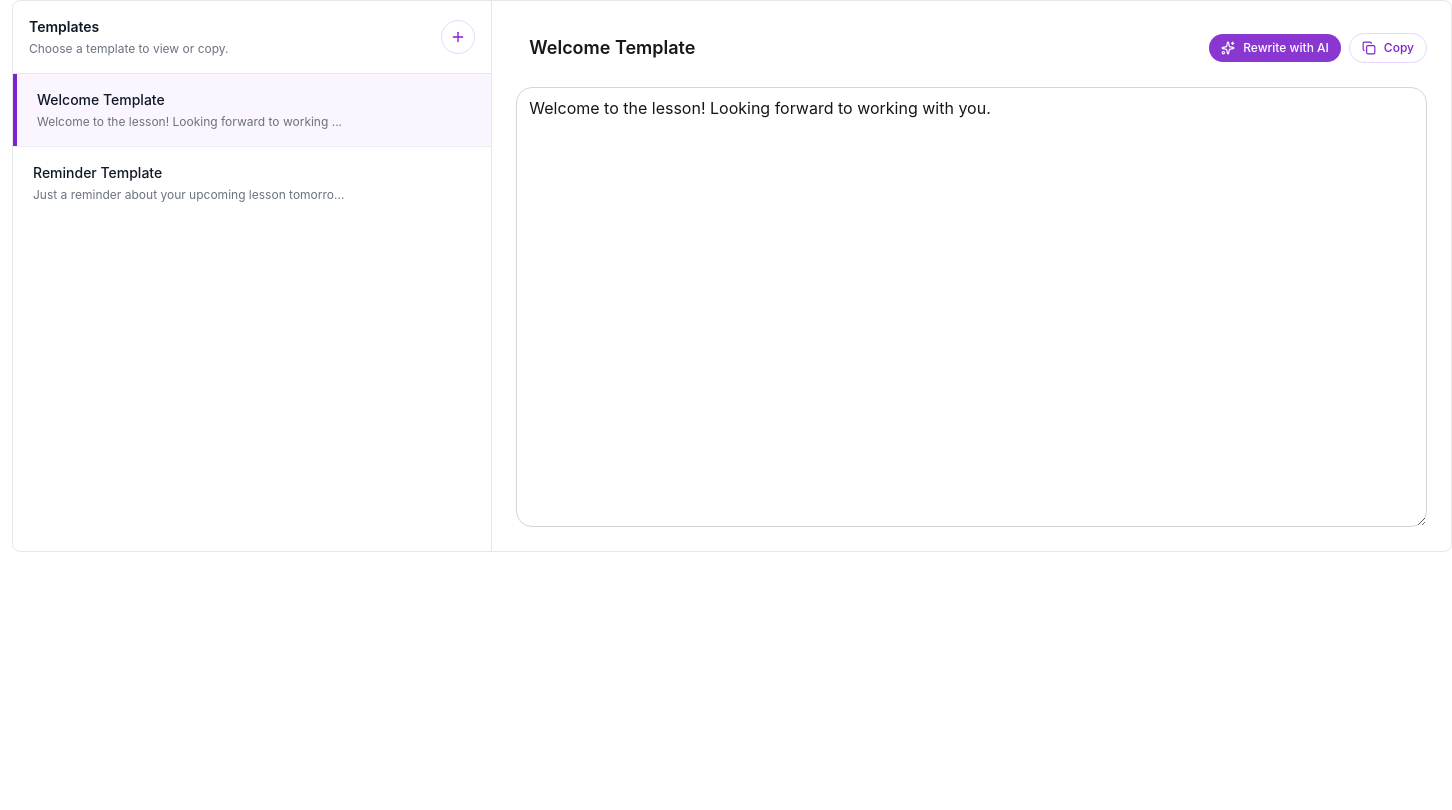
it: TemplateEditor › copy functionality › shows "Copied!" feedback after successful copy
The width and height of the screenshot is (1452, 810).
Click the button "Copy": coordinates (1388, 48) [1349,33,1427,63]
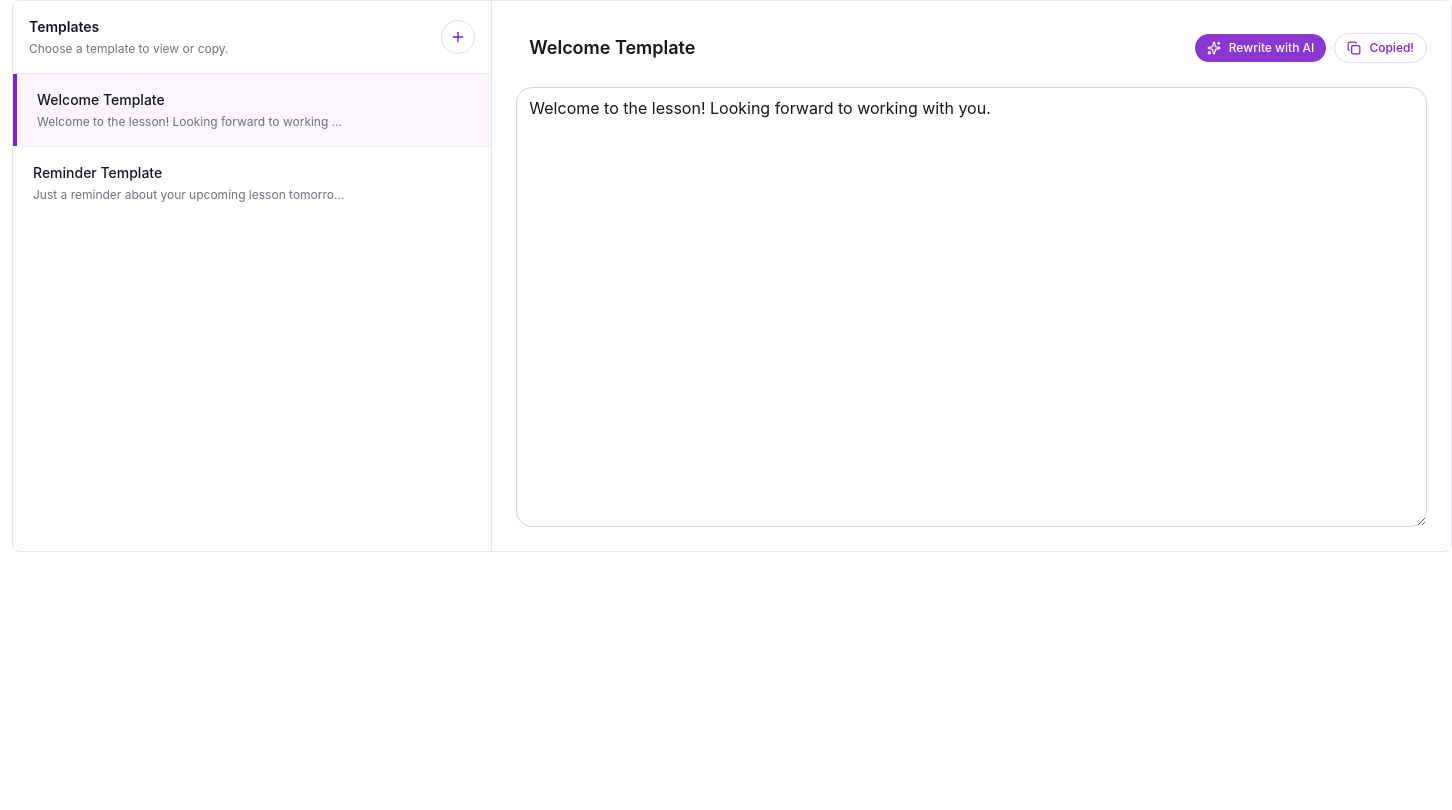
Check: the text "Copied!" is shown, box [1369,40,1414,56]
